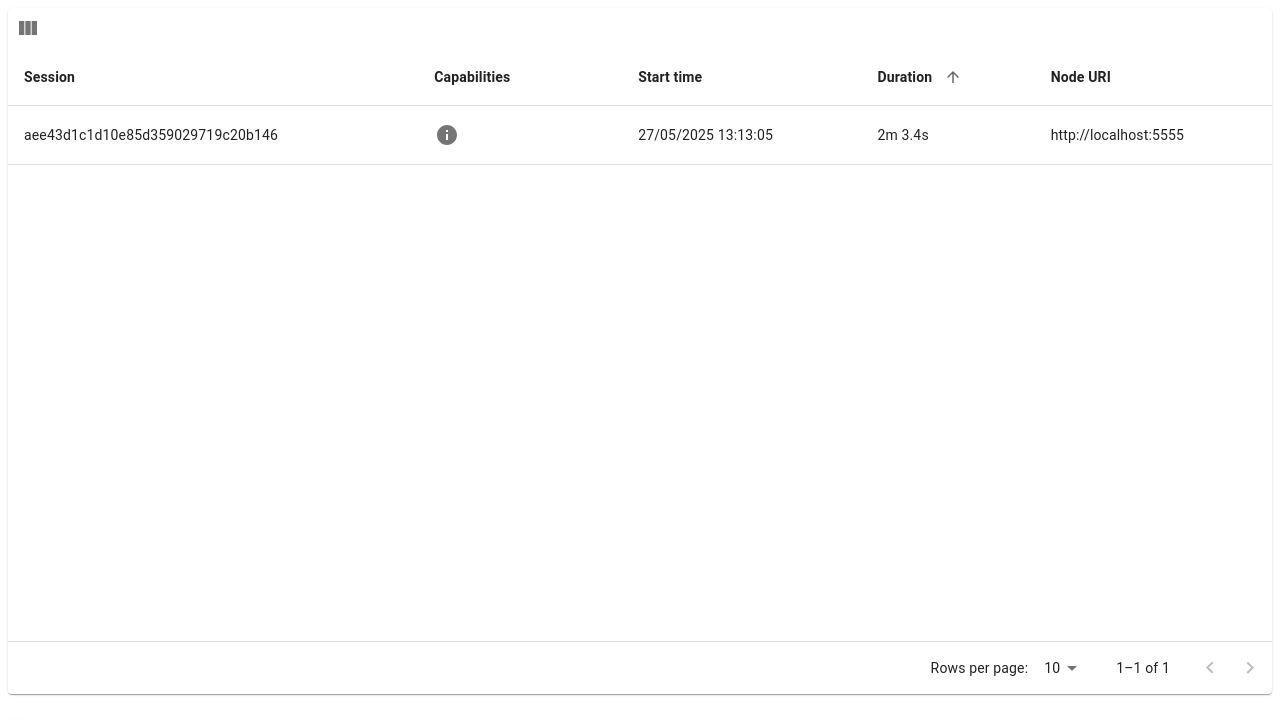
it: Session deletion functionality › uses fallback URL construction when se:gridWebSocketUrl is not available
Click the button with test id "InfoIcon". click: (447, 135)
box: [434,122,460,148]
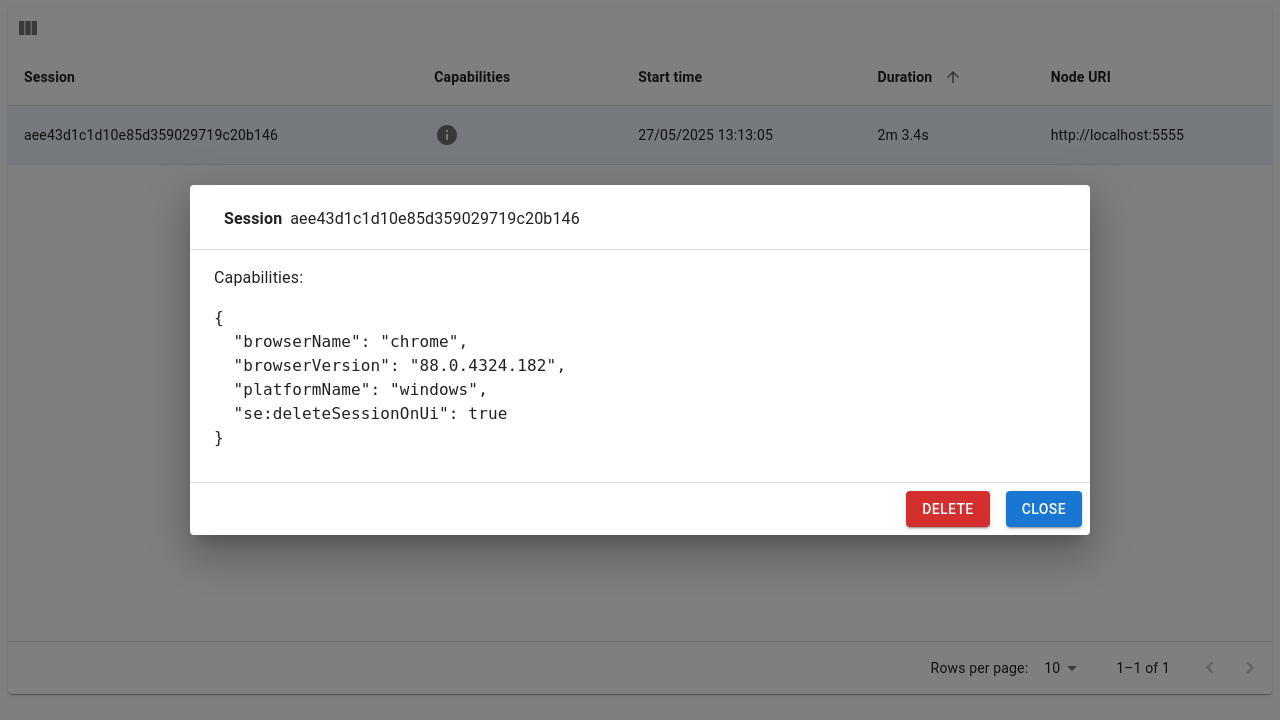
Click the button "Delete". click: (948, 509)
box: [906,491,990,527]
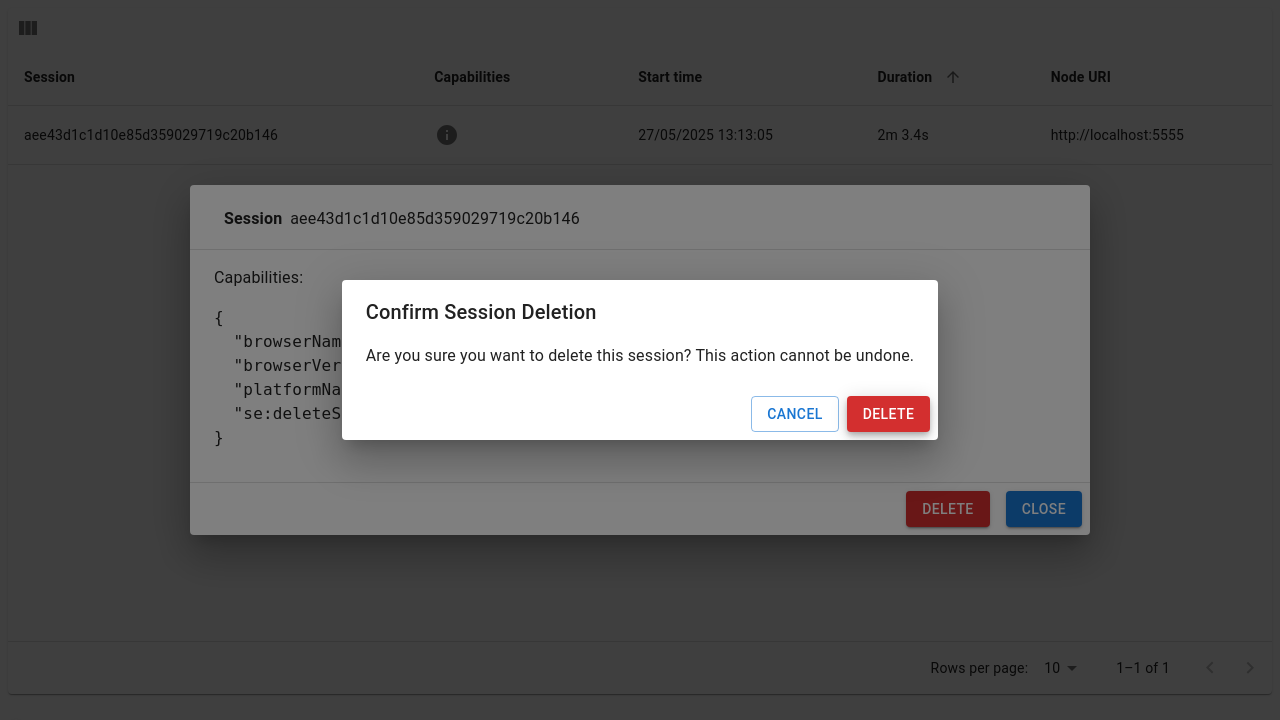
Click the button "Delete". click: (888, 414)
box: [847,396,930,432]
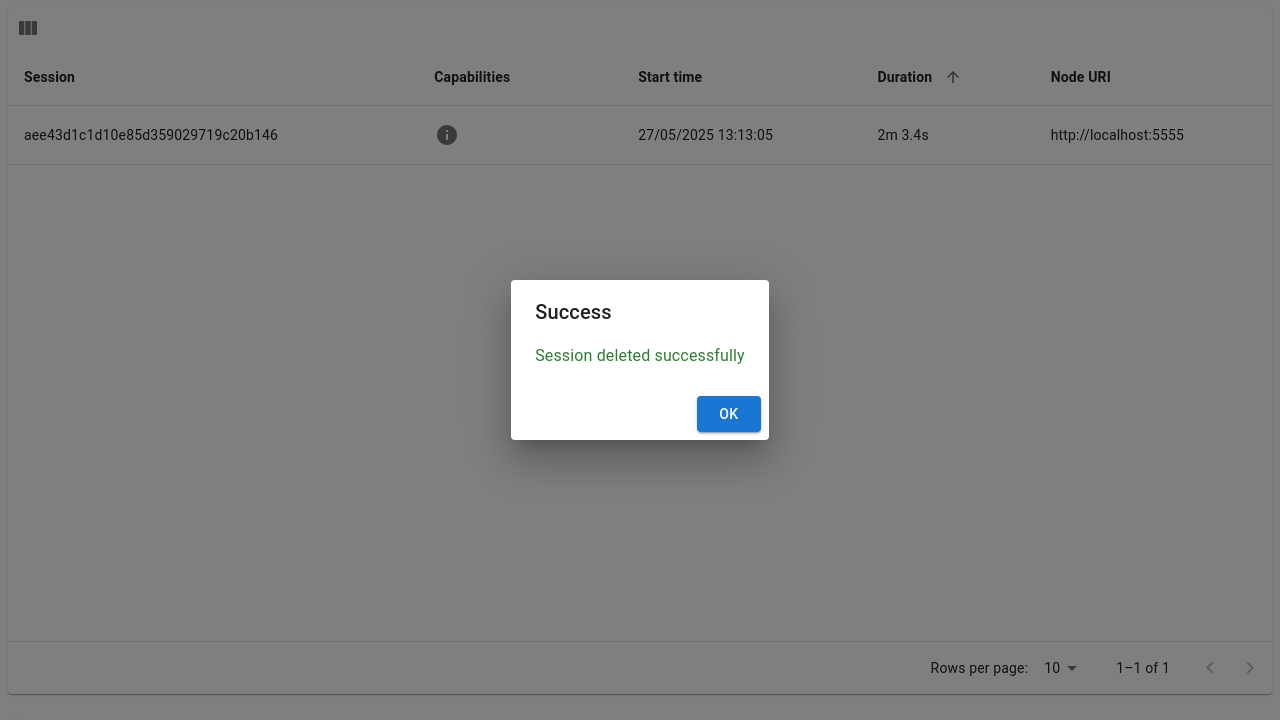
Expected: the heading "Success" is shown, [535,300,612,324]
Expected: the text "Session deleted successfully" is shown, [535,344,745,368]
